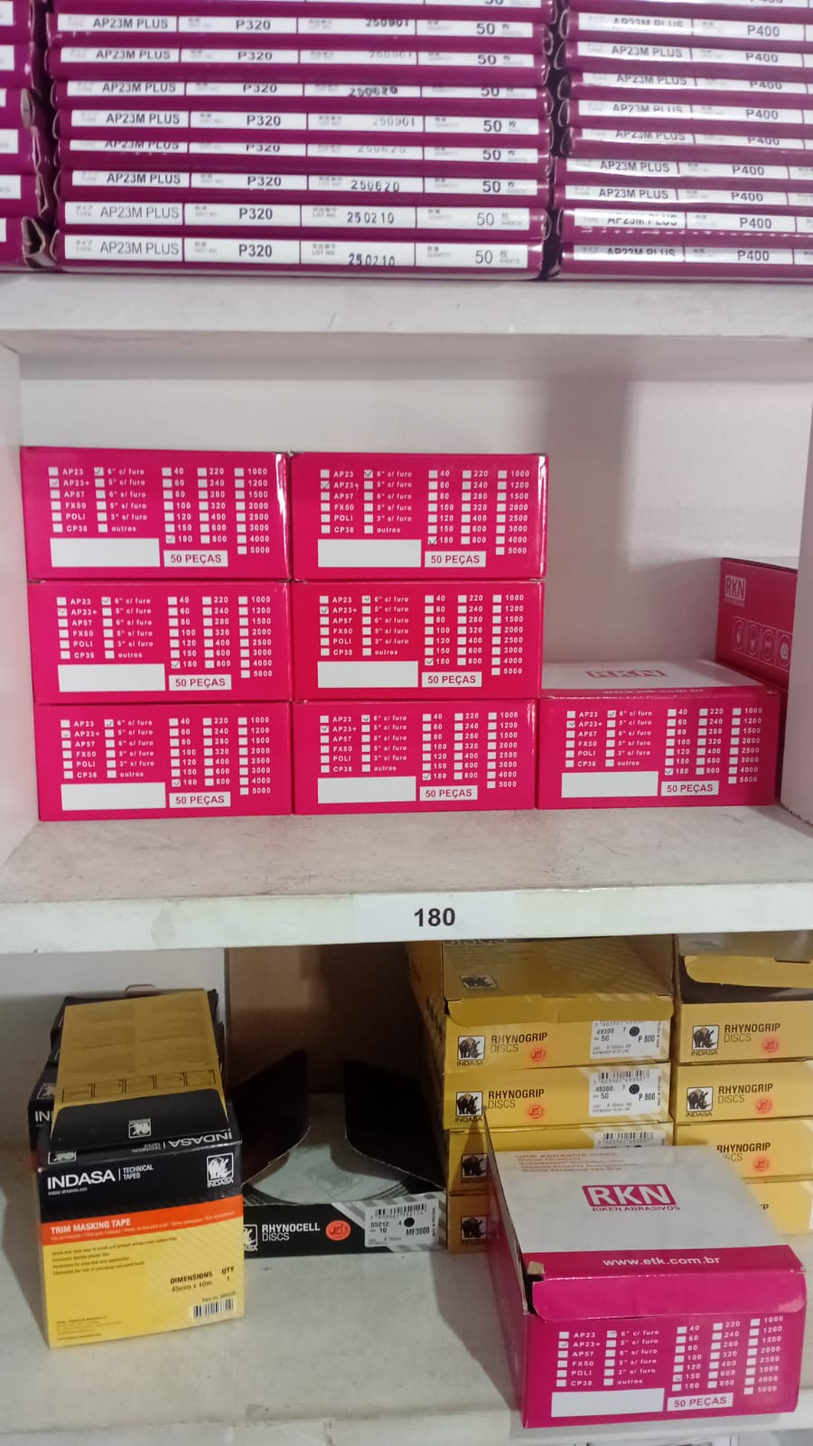grao: (180, 41, 300, 75), (182, 233, 301, 267), (684, 235, 796, 271), (177, 7, 298, 40), (190, 104, 308, 136), (183, 200, 301, 231), (190, 167, 309, 196), (184, 77, 304, 105), (678, 153, 790, 183), (188, 137, 309, 164), (695, 14, 807, 43), (697, 70, 805, 99), (698, 128, 803, 156), (697, 100, 805, 127), (687, 208, 795, 234), (678, 185, 790, 210), (696, 46, 803, 70)
objects: (7, 334, 813, 946)
